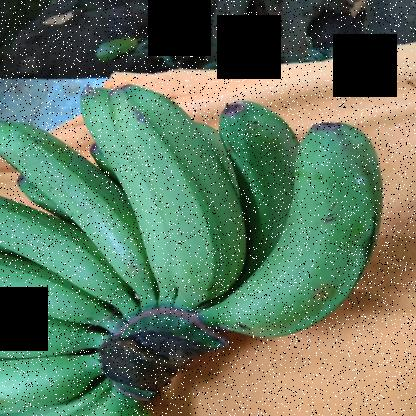freshunripe: (219, 113, 389, 342), (104, 82, 243, 296), (202, 92, 299, 276), (1, 186, 130, 317), (1, 244, 136, 332), (1, 346, 114, 412), (1, 307, 90, 351)
unripe: (1, 116, 162, 308)
